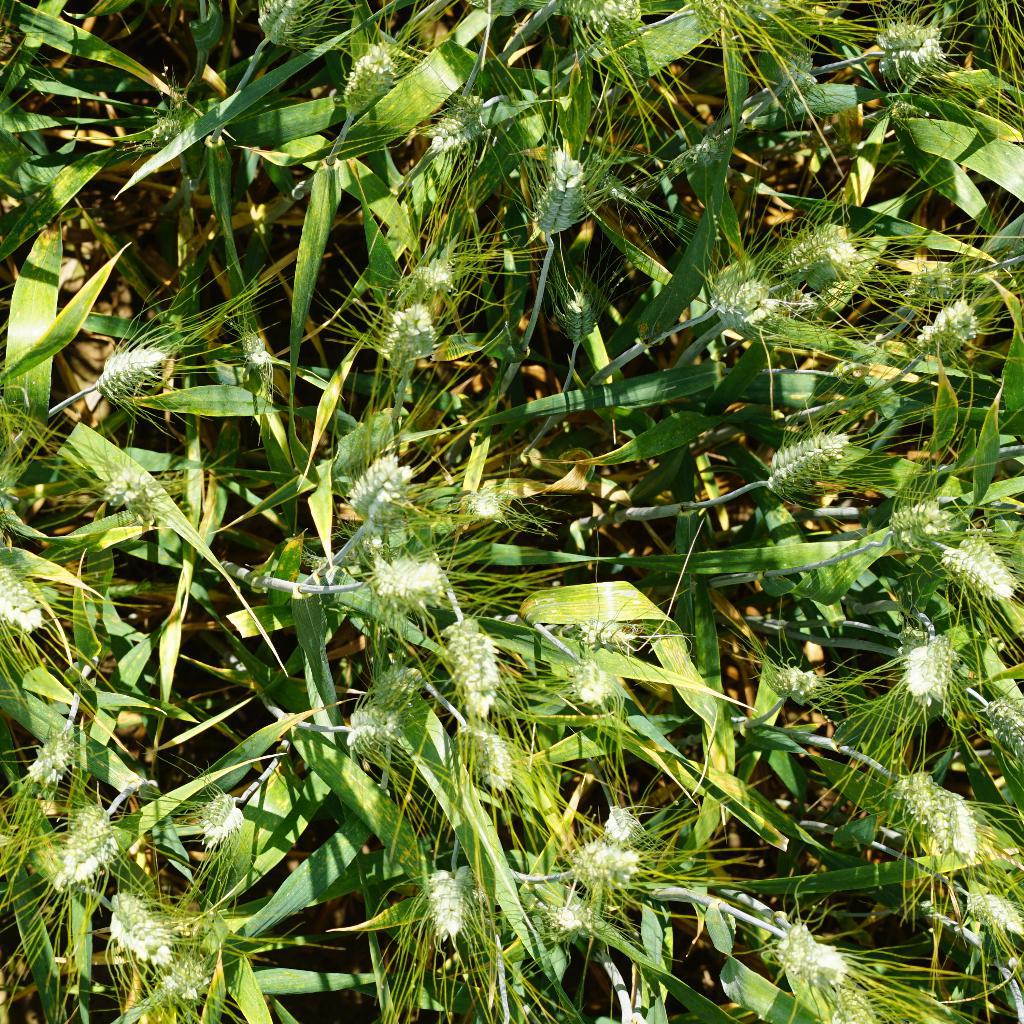0-0: (877, 755, 993, 867), (438, 594, 514, 716), (766, 205, 862, 294), (529, 137, 597, 251), (325, 452, 423, 530), (560, 821, 654, 901), (436, 710, 522, 795), (548, 643, 627, 732), (774, 911, 855, 996), (873, 6, 956, 88), (940, 529, 1024, 610), (89, 340, 180, 414), (758, 428, 854, 497), (362, 655, 424, 761), (49, 802, 123, 889), (588, 0, 656, 94), (336, 29, 407, 118), (101, 888, 179, 968), (894, 621, 959, 713), (350, 555, 448, 615), (697, 245, 769, 326), (912, 301, 985, 380), (172, 787, 273, 844), (15, 714, 89, 791), (894, 251, 970, 325), (765, 650, 844, 716), (343, 690, 414, 763), (419, 852, 475, 944), (804, 966, 891, 1024), (90, 467, 172, 527), (382, 303, 440, 385), (549, 266, 609, 344), (882, 485, 953, 550), (766, 43, 838, 107), (564, 602, 645, 657), (0, 552, 51, 638), (688, 0, 814, 34), (580, 780, 646, 843), (251, 0, 325, 56), (232, 314, 296, 378), (144, 86, 204, 152), (955, 879, 1024, 936), (429, 90, 478, 169), (666, 120, 732, 177), (146, 952, 213, 1006), (389, 249, 456, 302), (455, 490, 524, 538), (548, 0, 639, 32), (986, 692, 1024, 764), (542, 892, 583, 941), (882, 94, 936, 123)
